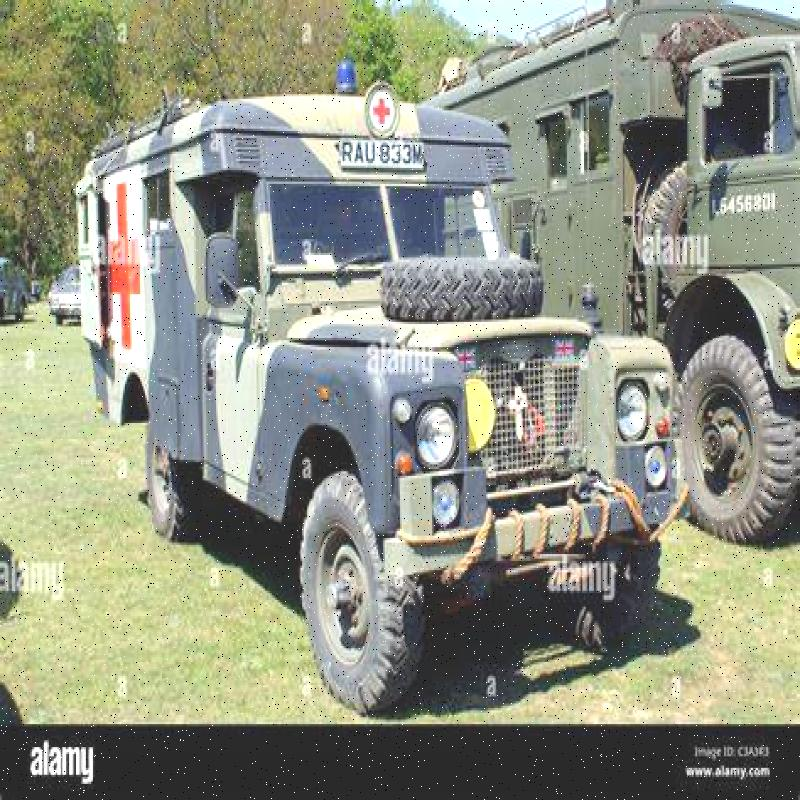AmbulanceSiren: (317, 43, 380, 118)
